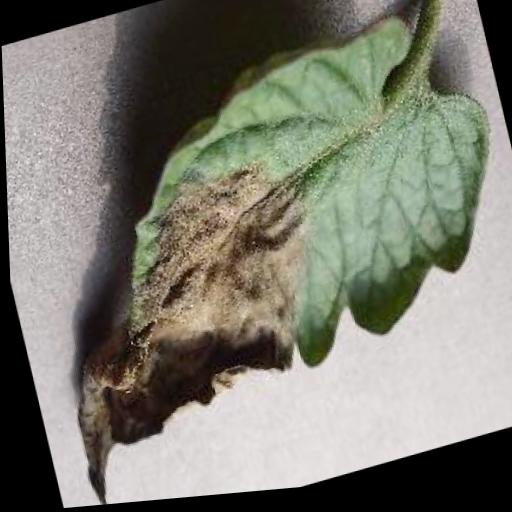Late Blight: (1, 0, 512, 512)
